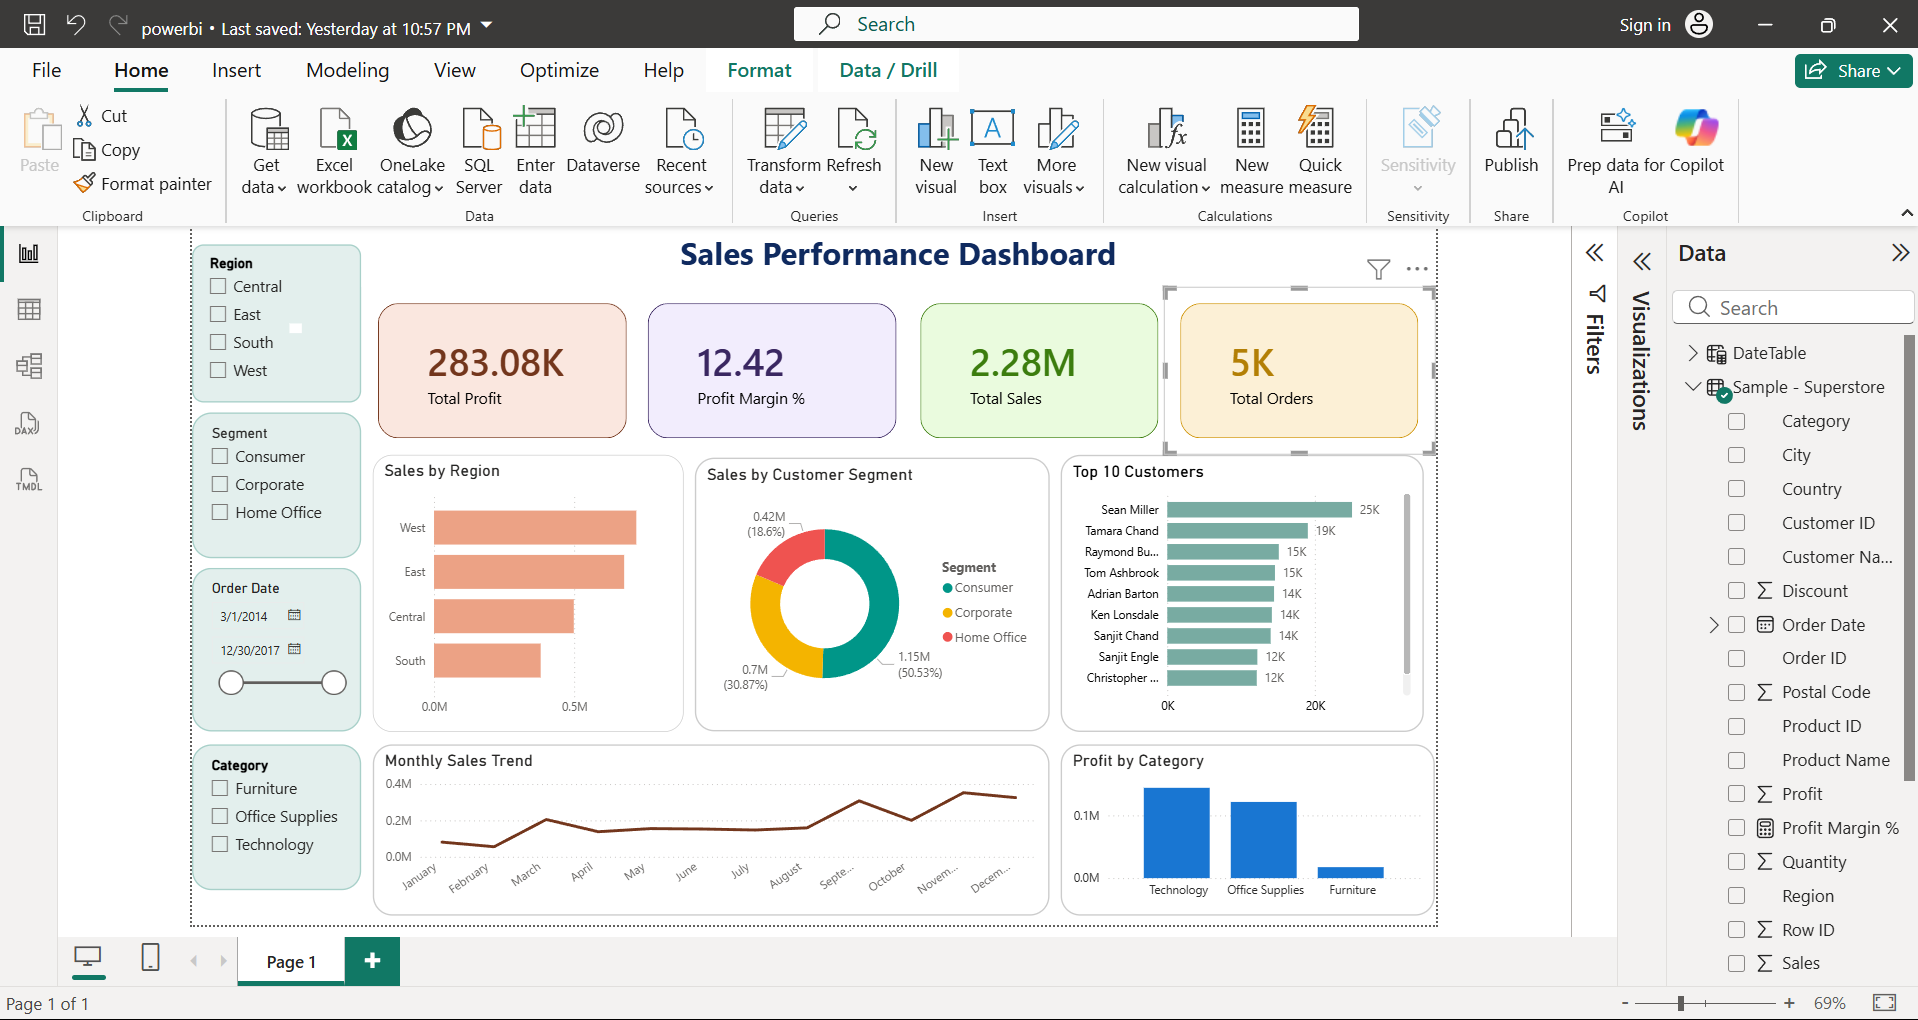

The page's visual inventory and layout, read from the dashboard file:
{"tool":"powerbi","page":{"name":"Page 1","canvas":[1280,720],"ordinal":0},"visuals":[{"type":"cardVisual","fields":{"Data":["Sample - Superstore.Total Sales"]},"box":[732.9,62.5,279.2,173],"z":0},{"type":"cardVisual","fields":{"Data":["Sample - Superstore.Total Profit"]},"box":[174.5,62.5,290.8,173],"z":1000},{"type":"cardVisual","fields":{"Data":["Sample - Superstore.Total Orders"]},"box":[1000.4,62.5,279.2,173],"z":2000},{"type":"cardVisual","fields":{"Data":["Sample - Superstore.Profit Margin %"]},"box":[452.2,62.5,290.8,173],"z":3000},{"type":"clusteredBarChart","title":"Sales by Region","fields":{"Y":["Sum(Sample - Superstore.Sales)"],"Category":["Sample - Superstore.Region"]},"box":[186.1,235.6,319.9,285],"z":4000},{"type":"clusteredColumnChart","title":"Profit by Category","fields":{"Category":["Sample - Superstore.Category"],"Y":["Sum(Sample - Superstore.Profit)"]},"box":[894.3,533.7,385.3,176],"z":5000},{"type":"lineChart","title":"Monthly Sales Trend","fields":{"Category":["Sample - Superstore.Order Date.Variation.Date Hierarchy.Month"],"Y":["Sum(Sample - Superstore.Sales)"]},"box":[186.1,533.7,696.5,176],"z":6000},{"type":"donutChart","title":"Sales by Customer Segment","fields":{"Category":["Sample - Superstore.Segment"],"Y":["Sum(Sample - Superstore.Sales)"]},"box":[517.7,238.5,365,282.1],"z":7000},{"type":"barChart","title":"Top 10 Customers","fields":{"Category":["Sample - Superstore.Customer Name"],"Y":["Sum(Sample - Superstore.Sales)"]},"box":[894.3,235.6,373.7,285],"z":8000},{"type":"slicer","fields":{"Values":["Sample - Superstore.Region"]},"box":[0,18.9,174.5,162.9],"z":9000},{"type":"slicer","fields":{"Values":["Sample - Superstore.Segment"]},"box":[0,191.9,174.5,149.8],"z":10000},{"type":"slicer","fields":{"Values":["Sample - Superstore.Category"]},"box":[0,533.7,174.5,149.8],"z":11000},{"type":"slicer","fields":{"Values":["Sample - Superstore.Order Date"]},"box":[0,351.9,174.5,168.7],"z":12000},{"type":"textbox","box":[174.5,0,1105.1,62.5],"z":13000},{"type":"textbox","box":[100.3,100.3,13.1,8.7],"z":15000}]}

Visuals, with their boxes on the page's 1280x720 design canvas (x1, y1, x2, y2). These are canvas units, not pixel positions in the 1918x1020 screenshot, which may show the page scaled, cropped or inside an application window:
cardVisual - Sample - Superstore.Total Sales: {"x1": 733, "y1": 62, "x2": 1012, "y2": 236}
cardVisual - Sample - Superstore.Total Profit: {"x1": 174, "y1": 62, "x2": 465, "y2": 236}
cardVisual - Sample - Superstore.Total Orders: {"x1": 1000, "y1": 62, "x2": 1280, "y2": 236}
cardVisual - Sample - Superstore.Profit Margin %: {"x1": 452, "y1": 62, "x2": 743, "y2": 236}
"Sales by Region" clusteredBarChart: {"x1": 186, "y1": 236, "x2": 506, "y2": 521}
"Profit by Category" clusteredColumnChart: {"x1": 894, "y1": 534, "x2": 1280, "y2": 710}
"Monthly Sales Trend" lineChart: {"x1": 186, "y1": 534, "x2": 883, "y2": 710}
"Sales by Customer Segment" donutChart: {"x1": 518, "y1": 238, "x2": 883, "y2": 521}
"Top 10 Customers" barChart: {"x1": 894, "y1": 236, "x2": 1268, "y2": 521}
slicer - Sample - Superstore.Region: {"x1": 0, "y1": 19, "x2": 174, "y2": 182}
slicer - Sample - Superstore.Segment: {"x1": 0, "y1": 192, "x2": 174, "y2": 342}
slicer - Sample - Superstore.Category: {"x1": 0, "y1": 534, "x2": 174, "y2": 684}
slicer - Sample - Superstore.Order Date: {"x1": 0, "y1": 352, "x2": 174, "y2": 521}
textbox: {"x1": 174, "y1": 0, "x2": 1280, "y2": 62}
textbox: {"x1": 100, "y1": 100, "x2": 113, "y2": 109}
